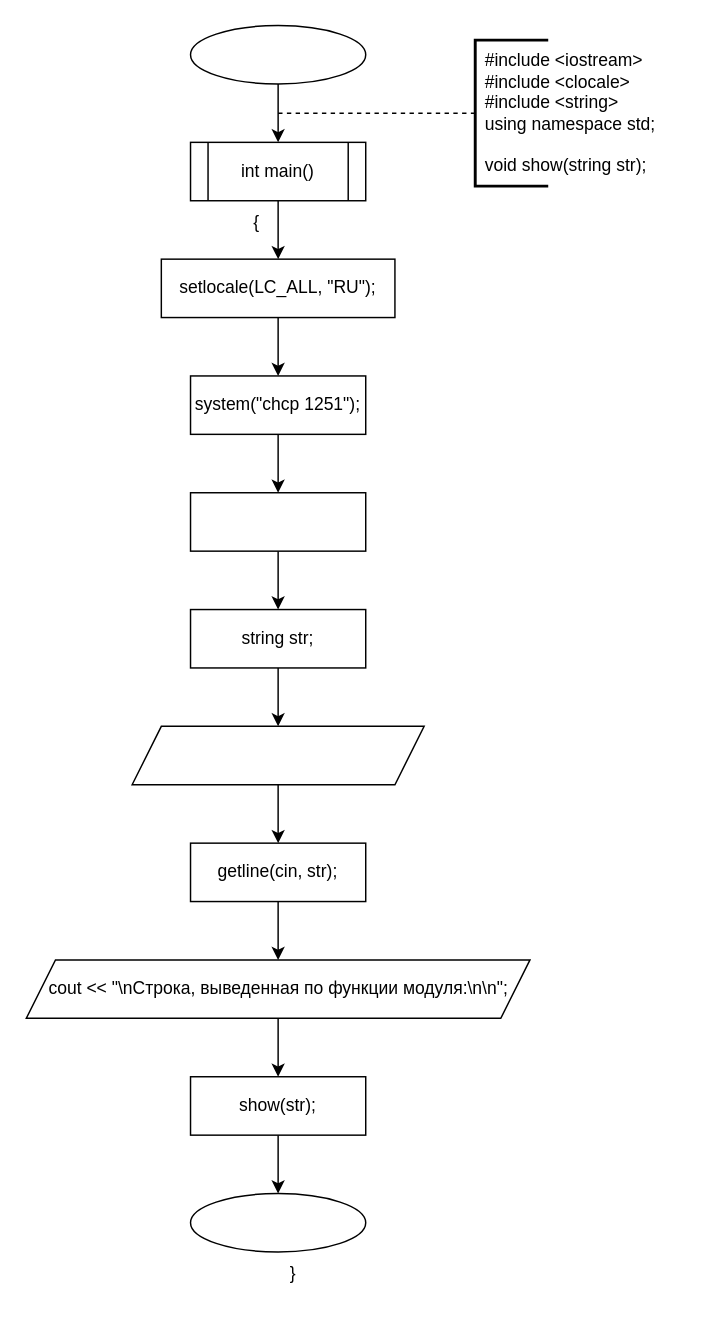
Image size: 711x1321. Some labels were removed from this diagram. Each missing label, with the centre of its shape:
cout << "Введите строку:\n";: point 277,755
return 0;: point 277,1222
system("cls");: point 277,521
Начало: point 277,54
